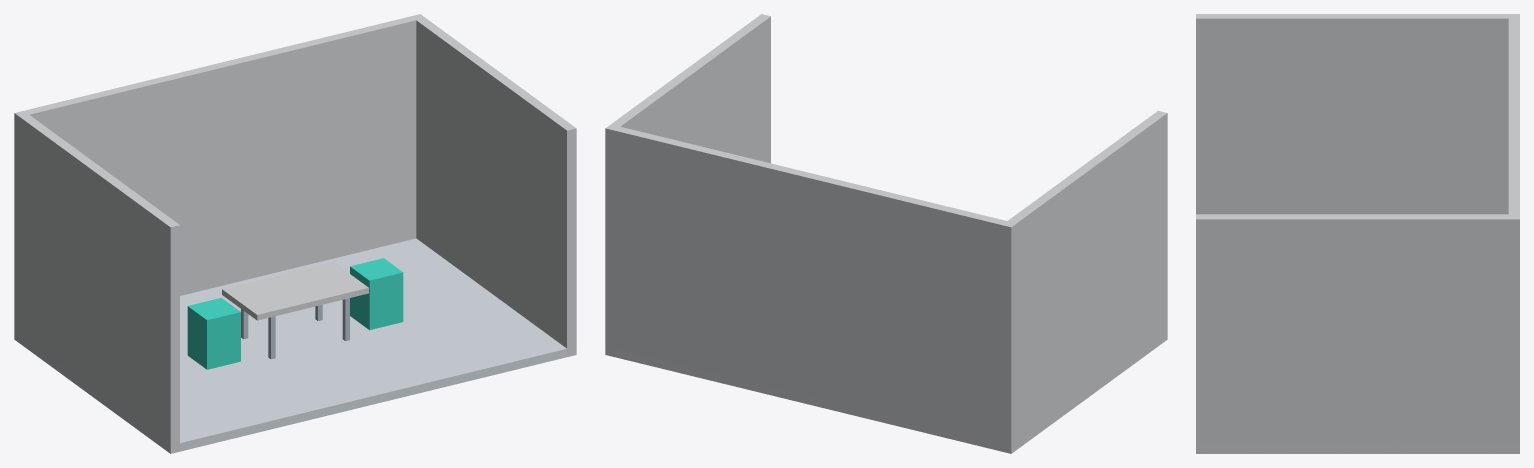
3 renders of one model, left to right at view 1: azimuth 30°, elevation 25°; view 2: azimuth 150°, elevation 25°; view 3: azimuth 270°, elevation 25°, orthographic. The views are drawn at different scales.
Visible parts, largest first — view 1: Exhibition Booth Concept; view 2: Exhibition Booth Concept; view 3: Exhibition Booth Concept.
Boxes of the visible parts, x1,y1,x2,y2 form: Exhibition Booth Concept: [14, 14, 576, 453]; Exhibition Booth Concept: [605, 14, 1167, 453]; Exhibition Booth Concept: [1196, 14, 1519, 453].
Size of the model in its own units: 6 by 3.2 by 4.
